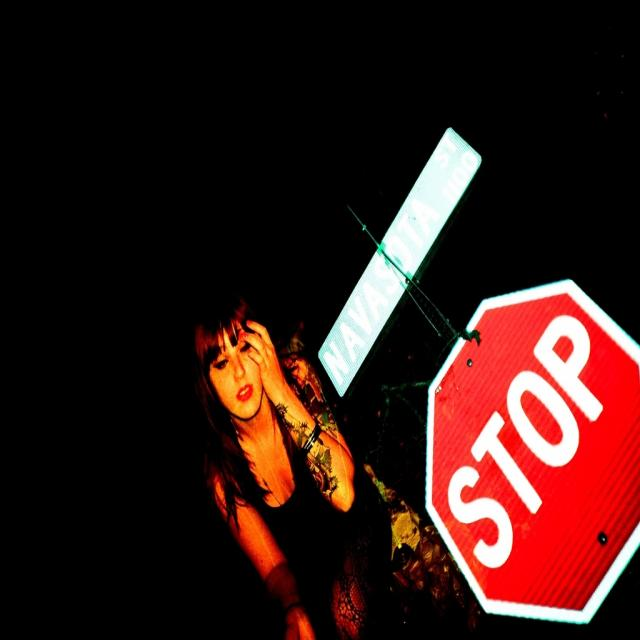Stop-sign: (425, 274, 639, 628)
